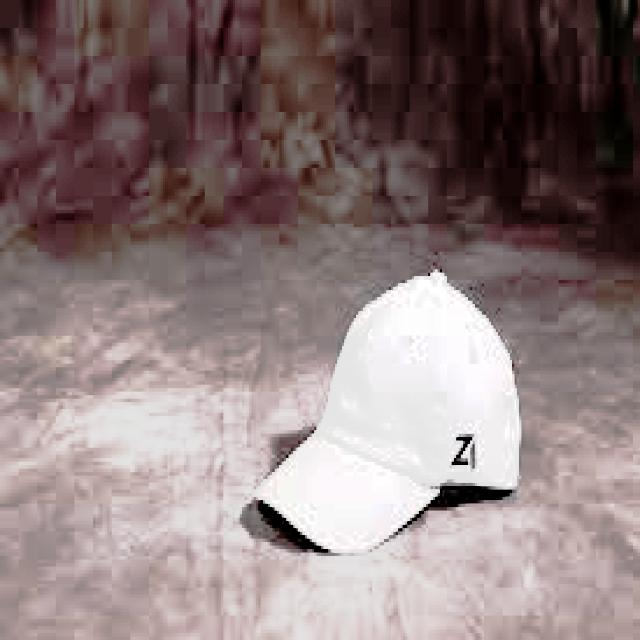TOPI: (256, 254, 530, 569)
